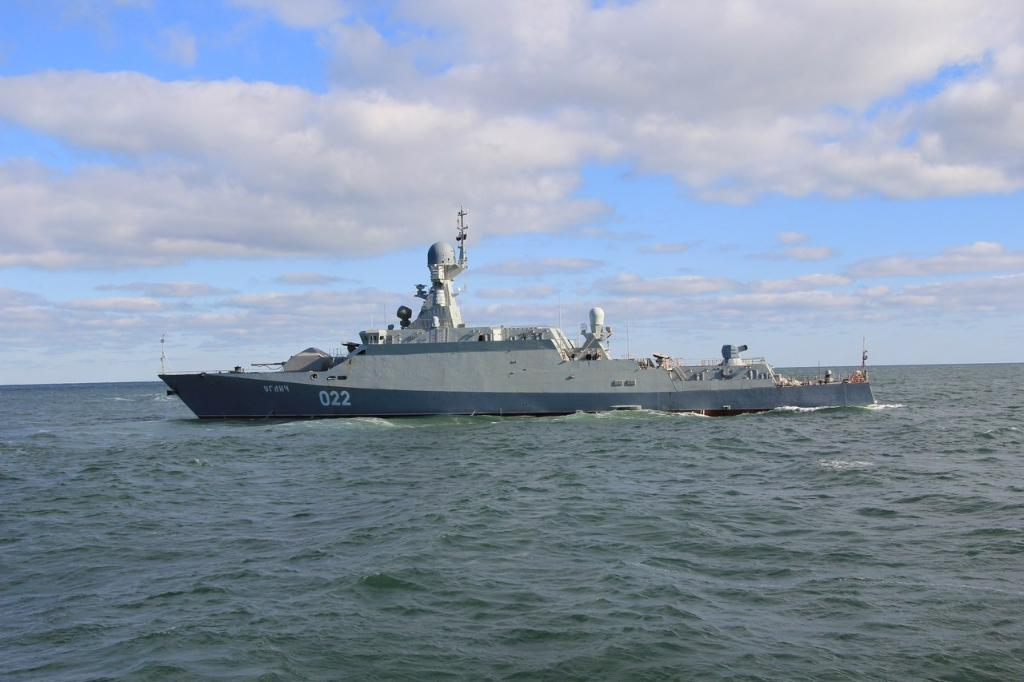Warship: (154, 186, 880, 426)
